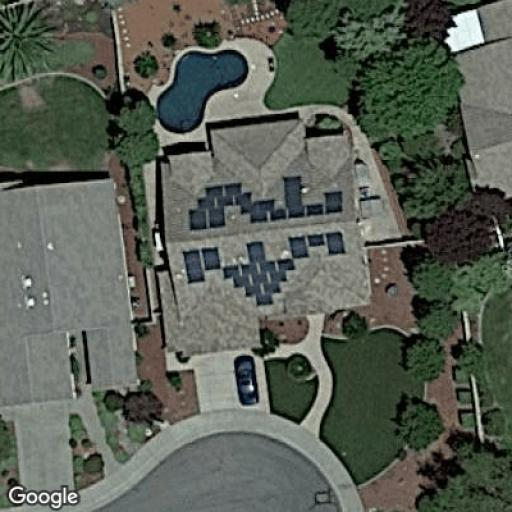solar-panel: (182, 230, 347, 306), (186, 174, 345, 232)
